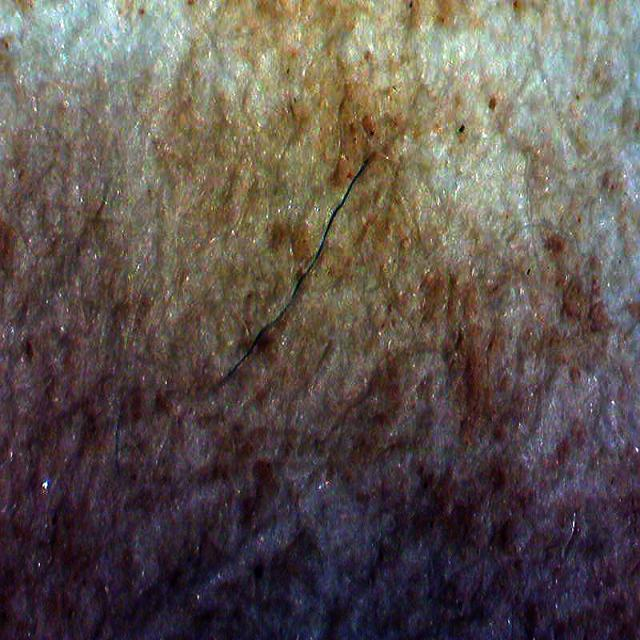microplastic: (230, 169, 363, 375)
